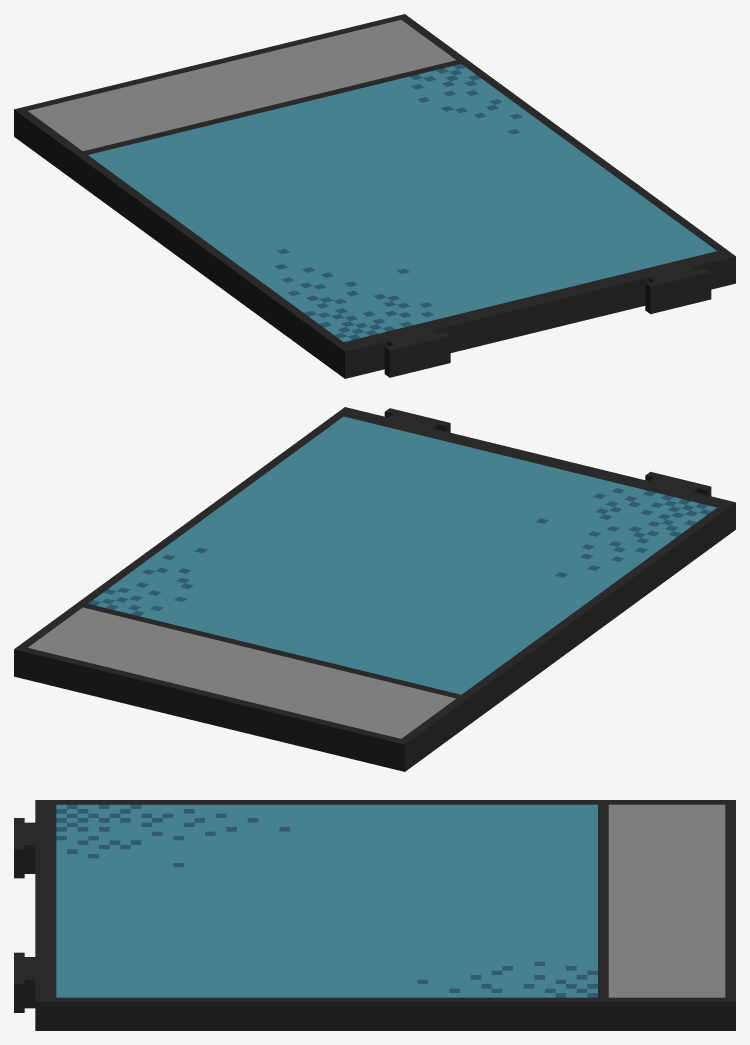
The model's file is partition_side.obj.
The picture shows the model from 3 angles, top to bottom: view 1: azimuth 30°, elevation 25°; view 2: azimuth 150°, elevation 25°; view 3: azimuth 270°, elevation 25°; orthographic projection. The views are drawn at different scales.
Bounding box in the file's own units: 45 × 3 × 68.
1 material, 1 textured.
